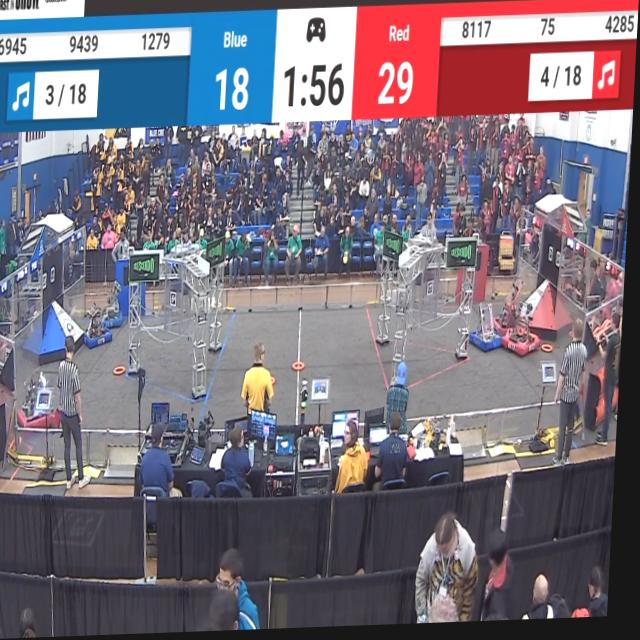Robot: (504, 285, 556, 366), (21, 368, 62, 435), (474, 299, 505, 359), (501, 274, 529, 339), (86, 298, 117, 351), (105, 282, 130, 331)
